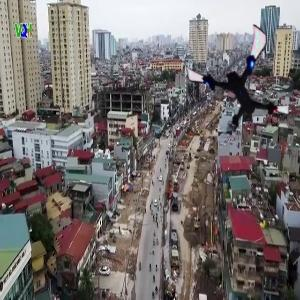drone: (186, 33, 287, 134)
